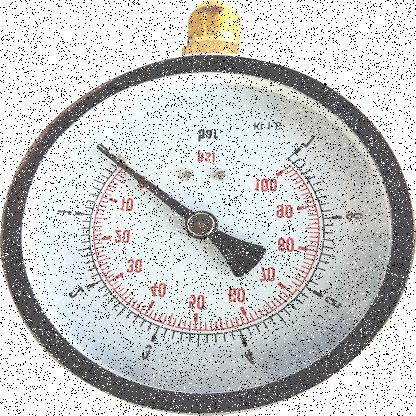needle: (96, 144, 195, 221)
